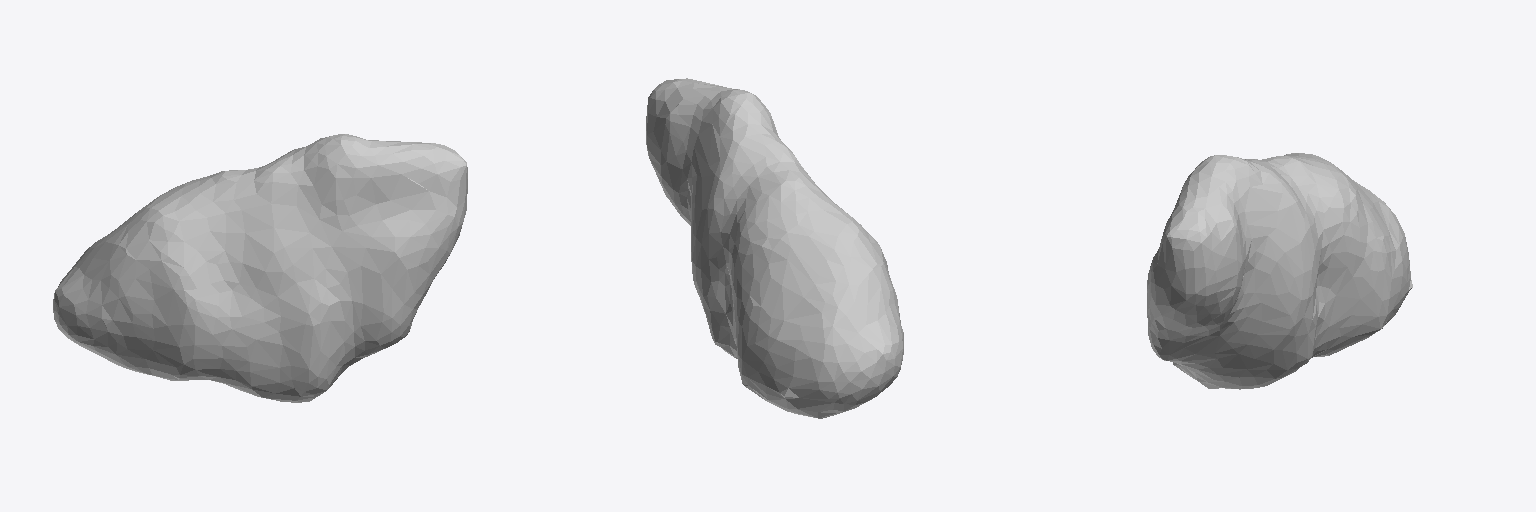
File: L-Globus.obj
3 views of the same model, side by side, from view 1: azimuth 30°, elevation 25°; view 2: azimuth 150°, elevation 25°; view 3: azimuth 270°, elevation 25° (orthographic).
Visible parts, largest first — view 1: L-globus_LEFT-globus; view 2: L-globus_LEFT-globus; view 3: L-globus_LEFT-globus.
Boxes of the visible parts, <box> form: L-globus_LEFT-globus: <box>53,134,467,402</box>; L-globus_LEFT-globus: <box>646,78,903,418</box>; L-globus_LEFT-globus: <box>1147,153,1412,389</box>.
Size of the model in its own units: 25.5 by 19.01 by 18.13.